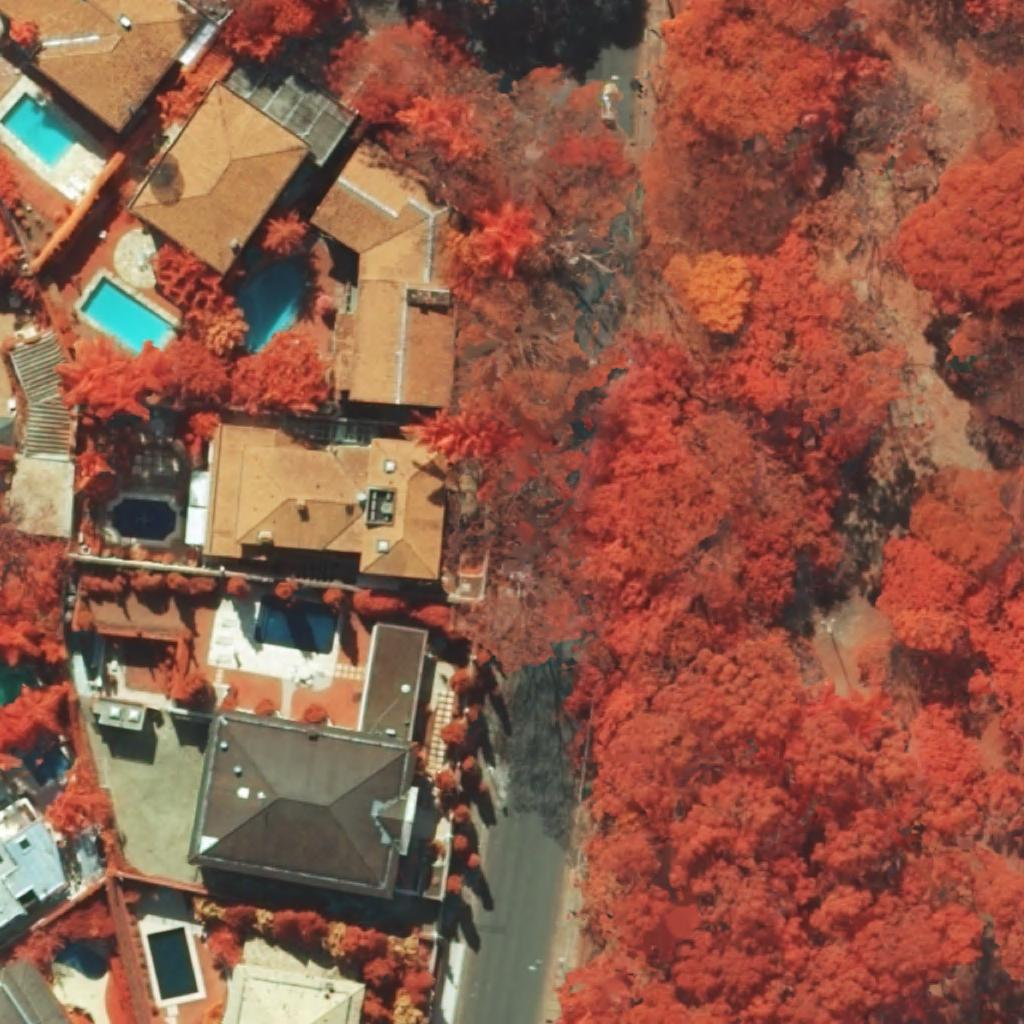pool: (80, 276, 174, 353), (238, 263, 304, 352), (253, 593, 337, 655), (147, 926, 199, 1001), (110, 498, 177, 541), (54, 942, 109, 981), (24, 749, 71, 788), (0, 664, 41, 707)
